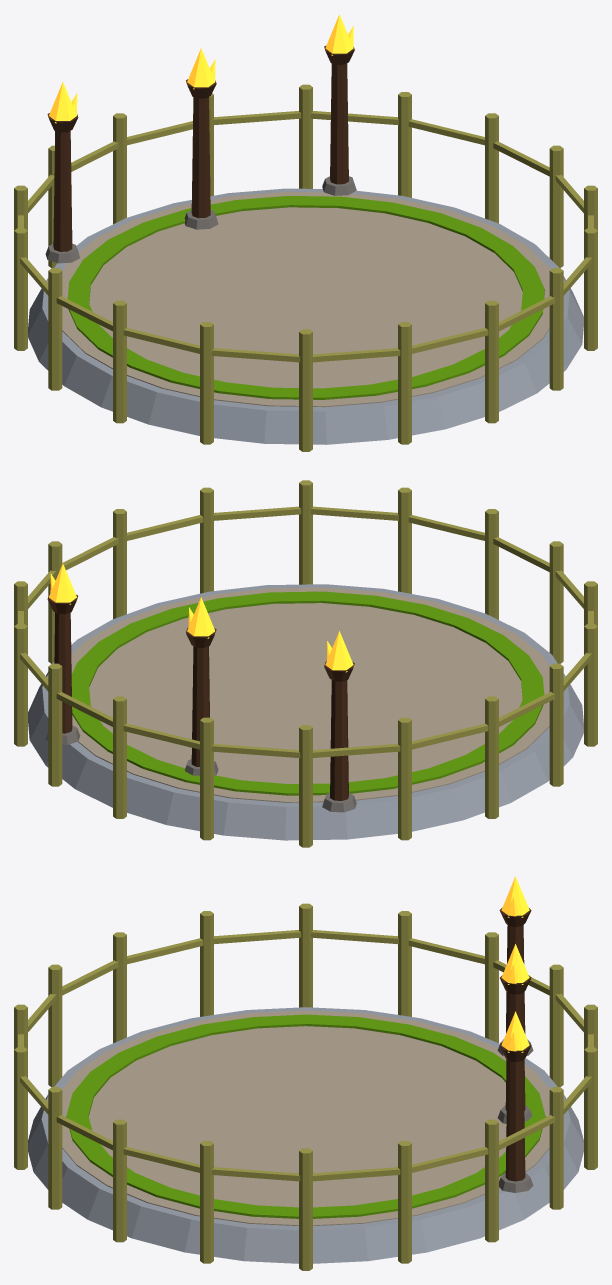
File: panggung_uji_v001.glb
3 renders of one model, top to bottom at view 1: azimuth 30°, elevation 25°; view 2: azimuth 150°, elevation 25°; view 3: azimuth 270°, elevation 25°, orthographic.
Parts seen in each view (by area): view 1: Arena_Uji, Pagar_Uji, Cincin_Aksen, Api_2_Nyala, Api_3_Nyala, Api_1_Nyala; view 2: Arena_Uji, Pagar_Uji, Cincin_Aksen, Api_2_Nyala, Api_3_Nyala, Api_1_Nyala; view 3: Arena_Uji, Pagar_Uji, Cincin_Aksen, Api_1_Nyala, Api_3_Nyala, Api_2_Nyala.
Boxes of the visible parts, x1,y1,x2,y2 form: Arena_Uji: (28, 46, 583, 444); Pagar_Uji: (14, 84, 597, 451); Cincin_Aksen: (67, 196, 544, 399); Api_2_Nyala: (186, 48, 215, 89); Api_3_Nyala: (324, 14, 353, 55); Api_1_Nyala: (48, 82, 77, 123); Arena_Uji: (28, 584, 583, 840); Pagar_Uji: (14, 480, 597, 847); Cincin_Aksen: (71, 591, 544, 795); Api_2_Nyala: (187, 597, 215, 638); Api_3_Nyala: (49, 563, 77, 604); Api_1_Nyala: (325, 631, 354, 672); Arena_Uji: (28, 907, 583, 1263); Pagar_Uji: (14, 903, 597, 1270); Cincin_Aksen: (66, 1014, 545, 1218); Api_1_Nyala: (501, 876, 529, 917); Api_3_Nyala: (501, 1011, 529, 1052); Api_2_Nyala: (501, 944, 529, 984).
Bounding box in the file's own units: 5.92 × 2.24 × 5.85.
